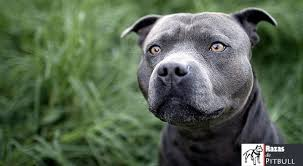Perro Pitbull: (114, 6, 290, 146)
